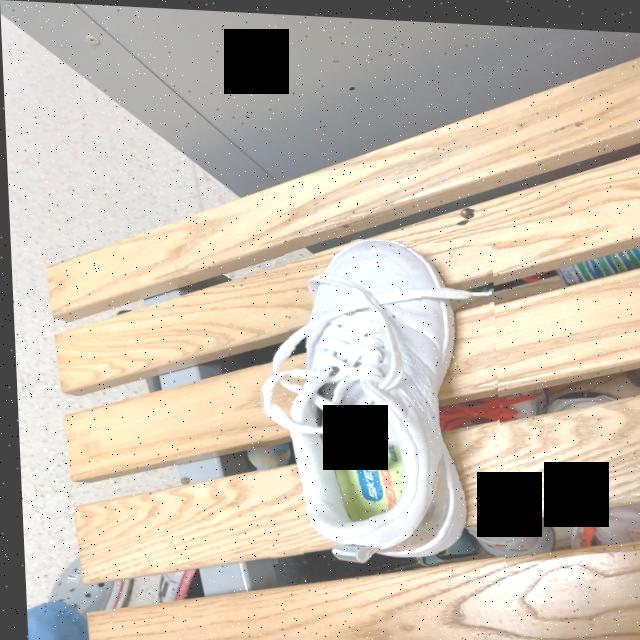shoe: (255, 236, 492, 564)
